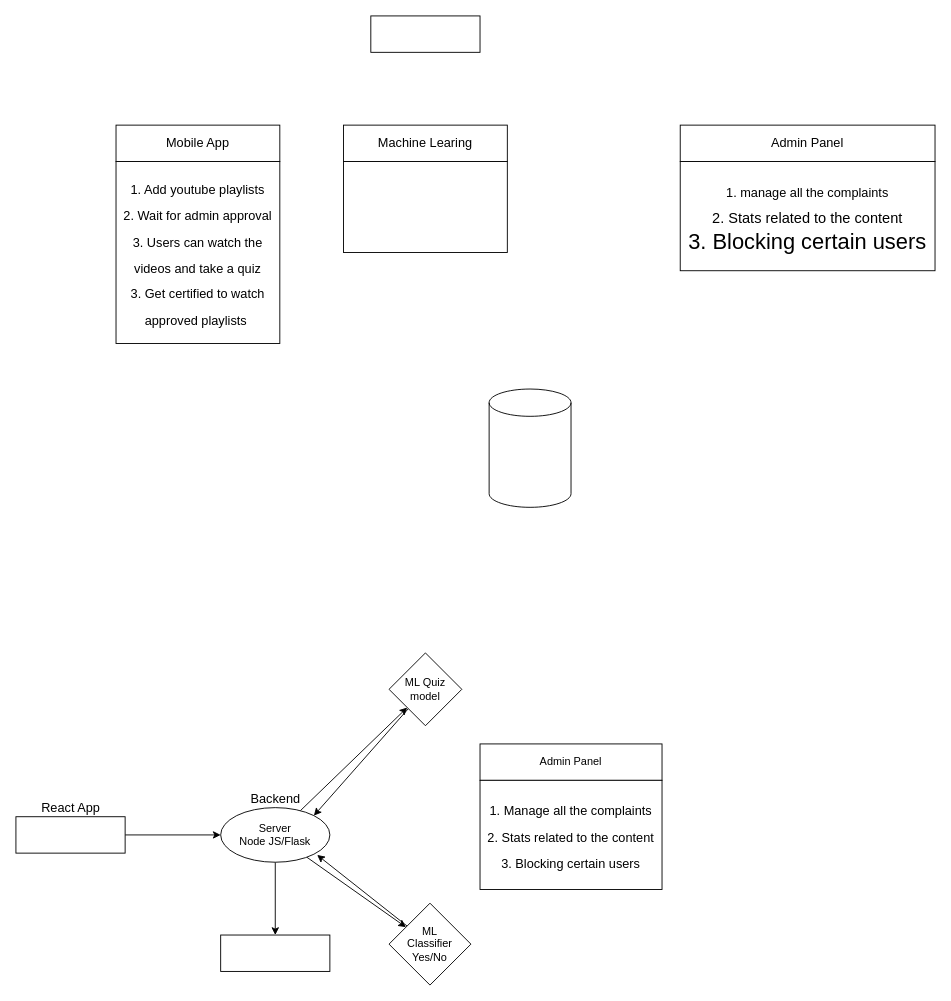
The diagram is 951 pixels wide and 1001 high, and some of its shapes have lost their labels. The centre of each missing label's shape, as x and y in pixels:
"1. ML is used to create the questions for the quiz" belongs at (x=425, y=207).
"Common Database (Firebase)" belongs at (x=529, y=447).
"Enter Playlist" belongs at (x=70, y=834).
"Firebase" belongs at (x=275, y=952).
"GoalTube" belongs at (x=425, y=33).
